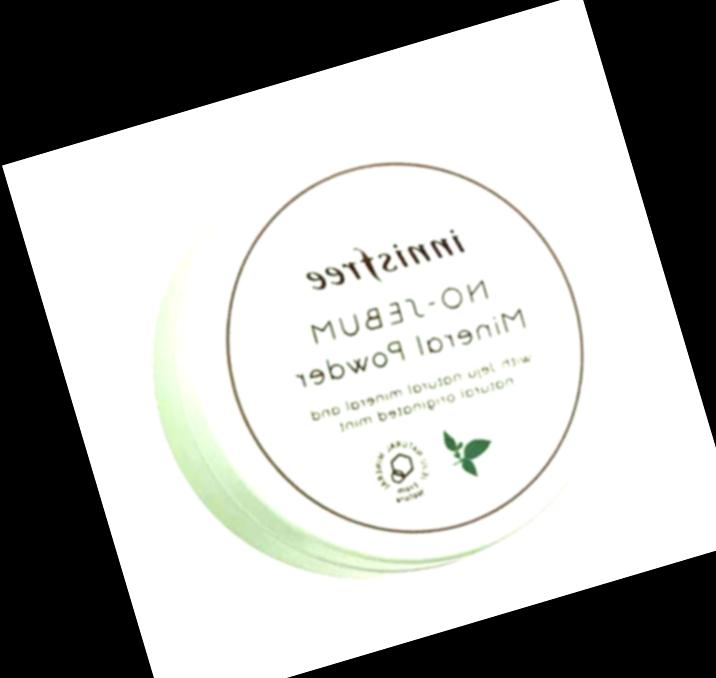cosmetic: (109, 90, 651, 620)
